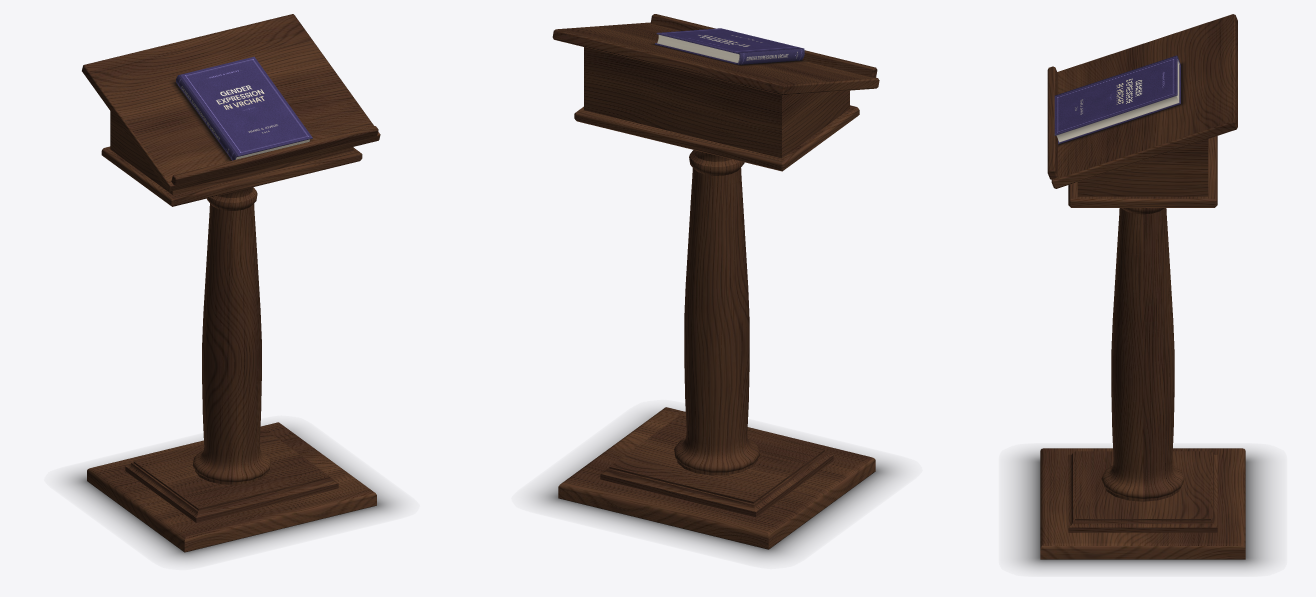
Rendered from zhang-2024-on-lectern.glb.
3 renders of one model, left to right at view 1: azimuth 30°, elevation 25°; view 2: azimuth 150°, elevation 25°; view 3: azimuth 270°, elevation 25°, orthographic. The views are drawn at different scales.
Parts seen in each view (by area): view 1: lectern, zhang-2024; view 2: lectern, zhang-2024; view 3: lectern, zhang-2024, zhang-2024-contact-shadow.
Part boxes in pixels (x1=…): lectern: x1=65, y1=14, x2=398, y2=561; zhang-2024: x1=176, y1=56, x2=312, y2=160; lectern: x1=534, y1=14, x2=899, y2=558; zhang-2024: x1=655, y1=28, x2=804, y2=64; lectern: x1=1016, y1=14, x2=1269, y2=569; zhang-2024: x1=1054, y1=55, x2=1180, y2=144; zhang-2024-contact-shadow: x1=1058, y1=63, x2=1184, y2=146.
Size of the model in its own units: 0.74 by 1.05 by 0.68.
Materials: 7 (7 with a texture image).
